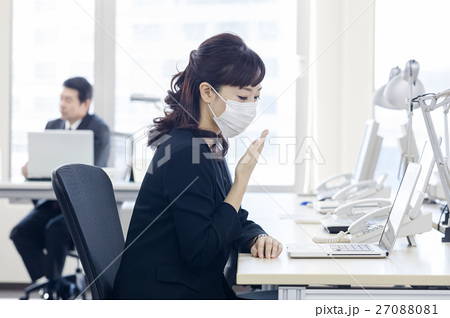mask: (214, 99, 264, 143)
